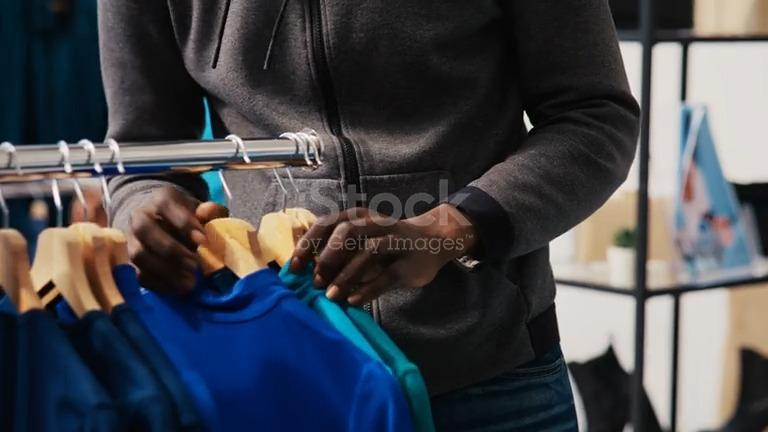Non shoplifting: (76, 0, 640, 432)
